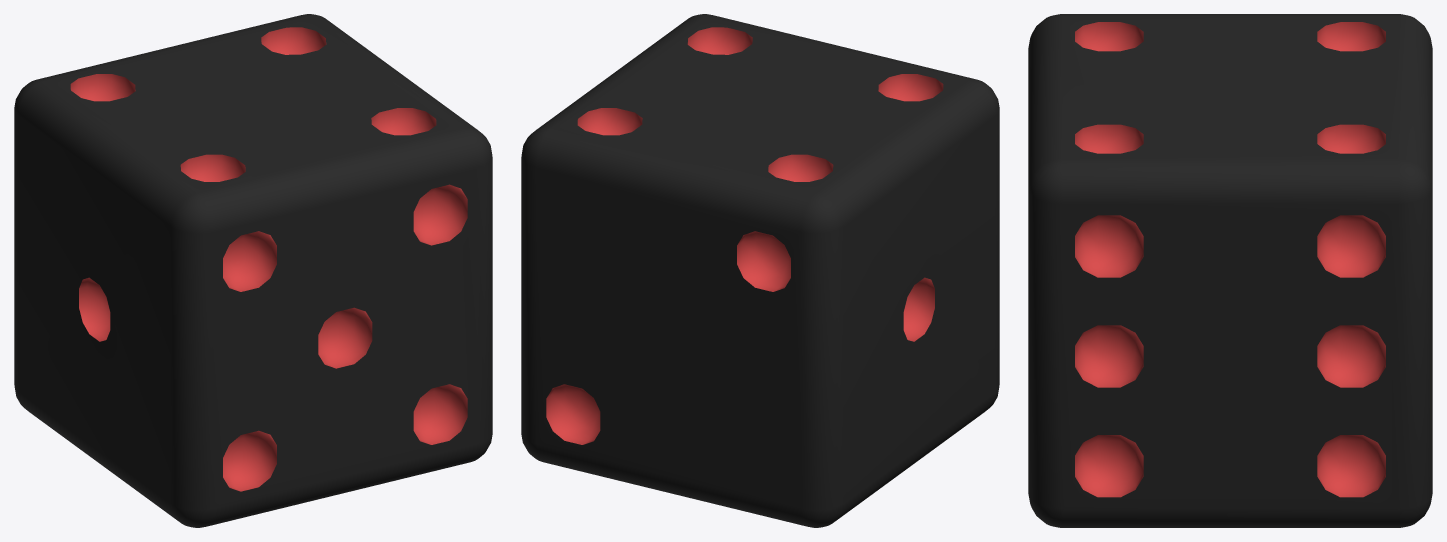
Rendered from dice_black.fbx.
The picture shows the model from 3 angles, left to right: view 1: azimuth 30°, elevation 25°; view 2: azimuth 150°, elevation 25°; view 3: azimuth 270°, elevation 25°; orthographic projection. The views are drawn at different scales.
Visible parts, largest first — view 1: dice_black; view 2: dice_black; view 3: dice_black.
Boxes of the visible parts, box(x1,y1,x2,y2) form: dice_black: box(14, 14, 492, 527); dice_black: box(521, 14, 999, 527); dice_black: box(1028, 14, 1432, 527).
Bounding box in the file's own units: 5 × 5 × 5.
Materials: 1 (1 with a texture image).
